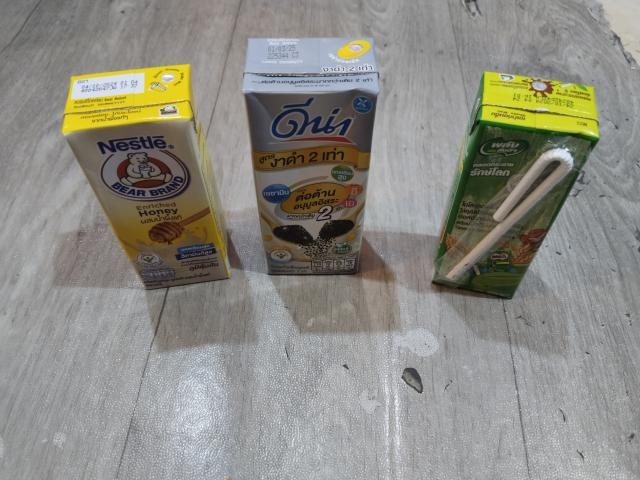drink_box: (54, 54, 242, 301), (421, 64, 610, 302), (234, 29, 382, 279)
